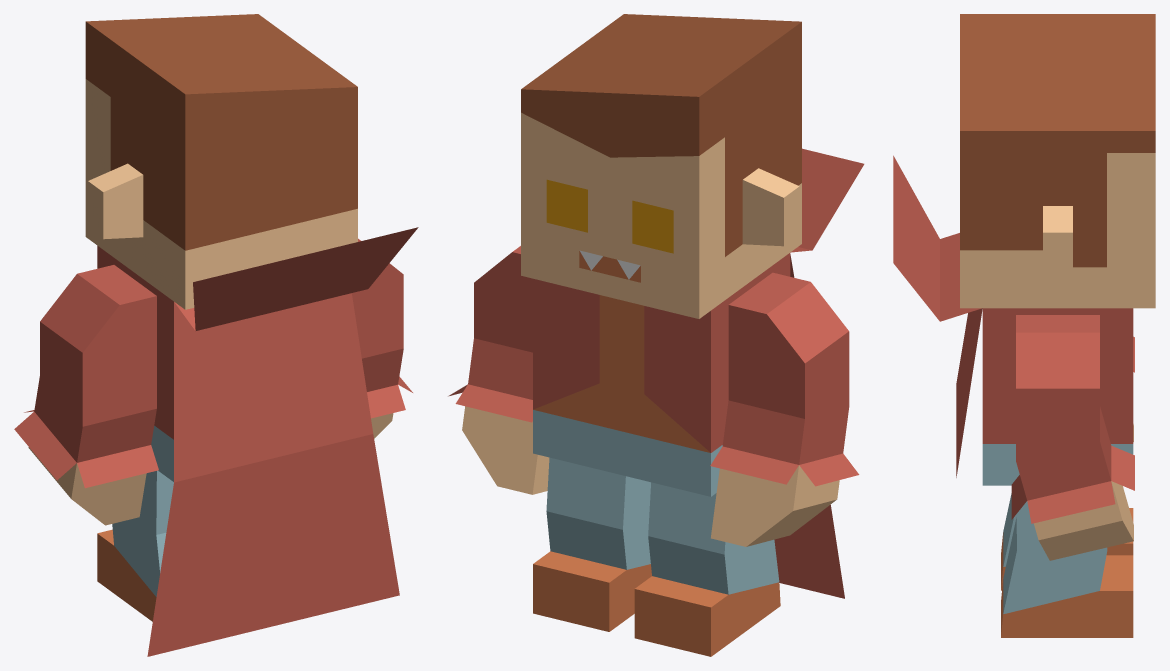
Rendered from vampire.glb.
3 views of the same model, side by side, from view 1: azimuth 30°, elevation 25°; view 2: azimuth 150°, elevation 25°; view 3: azimuth 270°, elevation 25° (orthographic). The views are drawn at different scales.
Visible parts, largest first — view 1: mergedBlocks(Clone); view 2: mergedBlocks(Clone); view 3: mergedBlocks(Clone).
Part boxes in pixels (x1,y1,x2,y2): mergedBlocks(Clone): (14,14,418,656); mergedBlocks(Clone): (448,14,864,656); mergedBlocks(Clone): (893,14,1155,637).
Size of the model in its own units: 0.5371 by 0.7932 by 0.3489.
